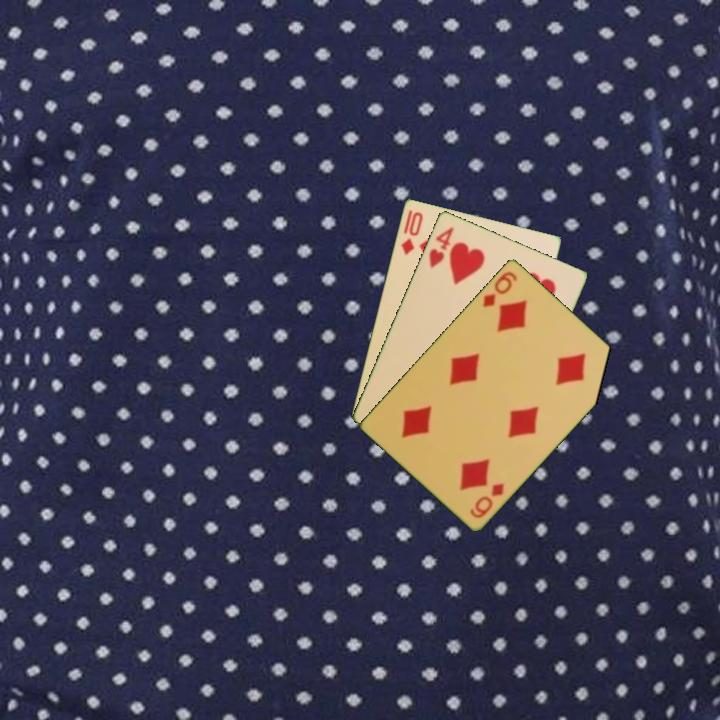10d: (397, 208, 426, 258)
4h: (425, 223, 457, 271)
6d: (479, 268, 520, 310), (467, 479, 507, 521)
